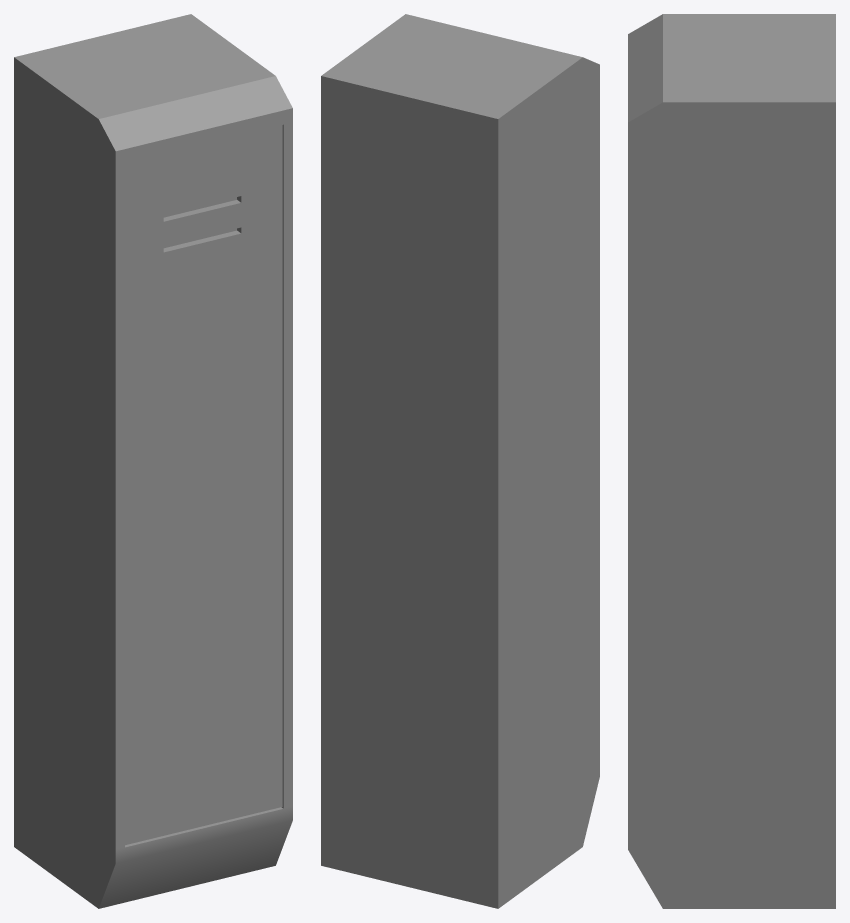
Rendered from LOCKERCLOSED.fbx.
3 renders of one model, left to right at view 1: azimuth 30°, elevation 25°; view 2: azimuth 150°, elevation 25°; view 3: azimuth 270°, elevation 25°, orthographic. The views are drawn at different scales.
Visible parts, largest first — view 1: Locker.001, door; view 2: Locker.001; view 3: Locker.001.
Boxes of the visible parts, bbox=[...] form: Locker.001: bbox=[14, 14, 292, 908]; door: bbox=[125, 125, 282, 845]; Locker.001: bbox=[321, 14, 599, 908]; Locker.001: bbox=[628, 14, 835, 908].
Bounding box in the file's own units: 0.5367 × 2.3 × 0.54.
